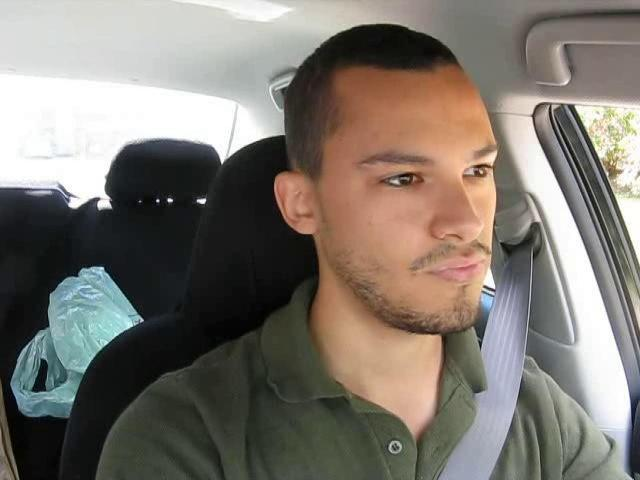eye_open: (372, 167, 429, 197), (462, 162, 490, 184)
face: (335, 126, 502, 311)
